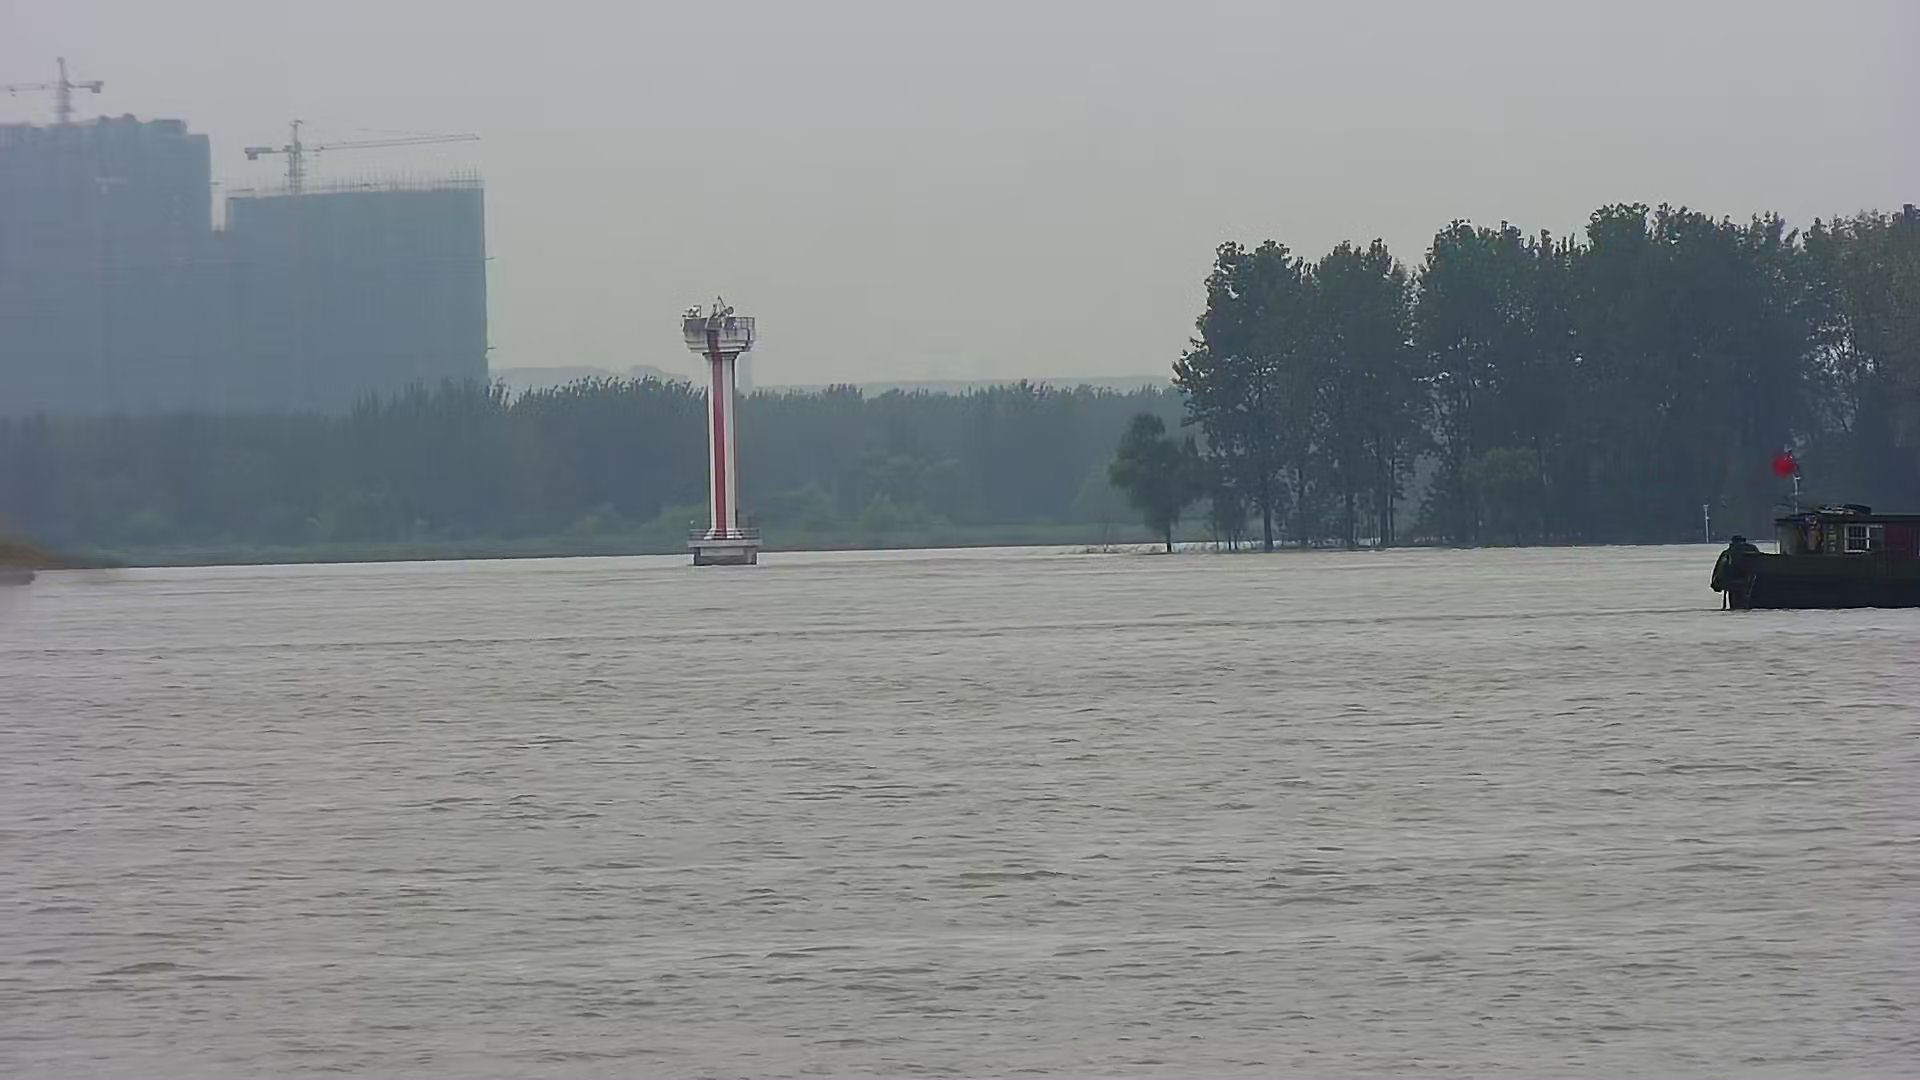platform: (676, 291, 767, 568)
ship: (1700, 440, 1920, 609)
